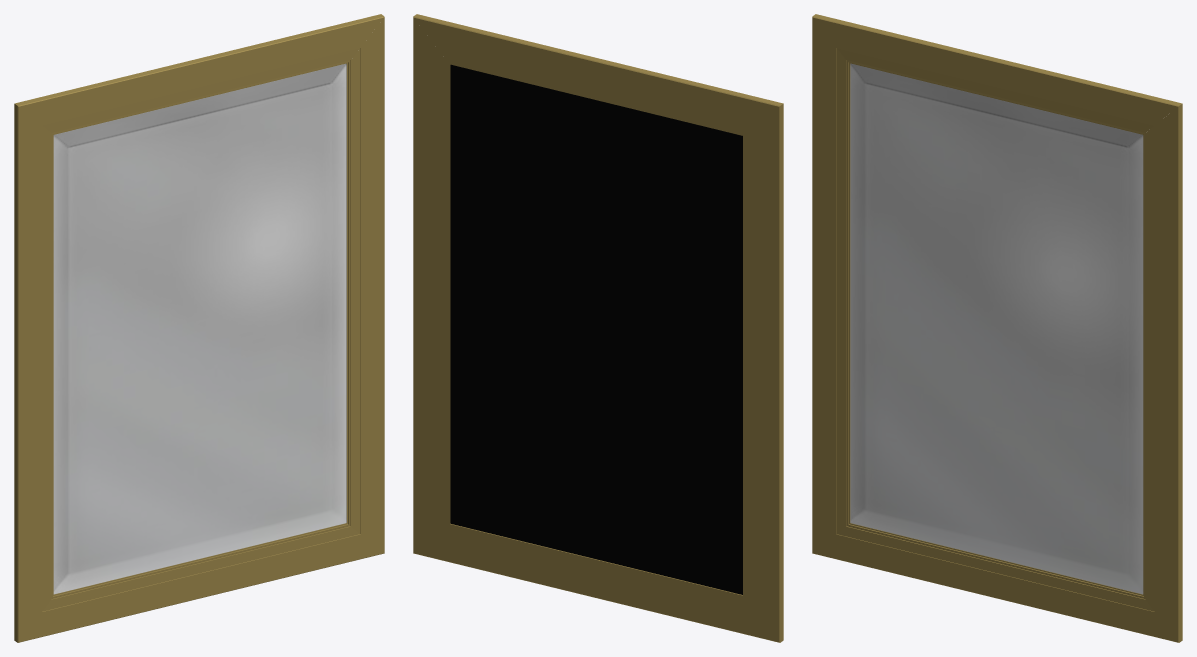
Rendered from sweethome3d-contributions-rectangular-mirror-137.glb.
The picture shows the model from 3 angles, left to right: view 1: azimuth 30°, elevation 25°; view 2: azimuth 150°, elevation 25°; view 3: azimuth 330°, elevation 25°; orthographic projection.
Visible parts, largest first — view 1: sweethome3d_window_mirror, Cadre; view 2: Fond, Cadre; view 3: sweethome3d_window_mirror, Cadre.
Boxes of the visible parts, x1,y1,x2,y2 form: sweethome3d_window_mirror: (53, 63, 346, 594); Cadre: (14, 14, 384, 642); Fond: (450, 64, 742, 594); Cadre: (413, 14, 783, 642); sweethome3d_window_mirror: (850, 63, 1143, 594); Cadre: (812, 14, 1182, 642).
Bounding box in the file's own units: 50.08 × 70.06 × 0.9775.
Materials: 3 (1 with a texture image).
